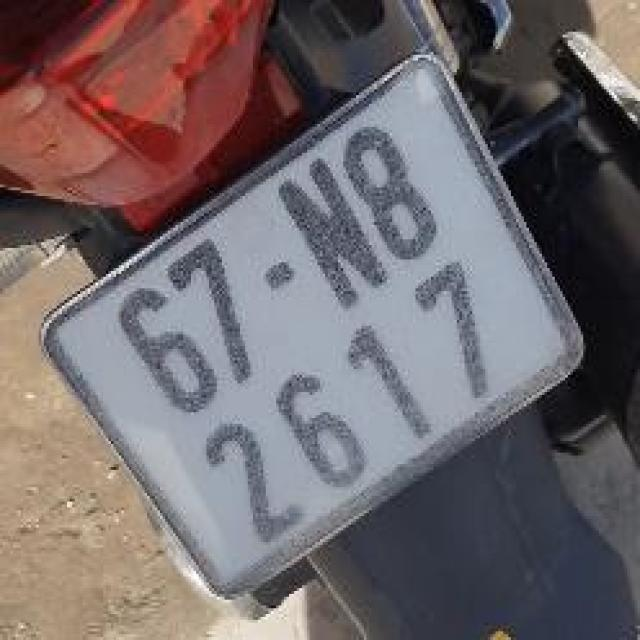1: (336, 311, 450, 450)
2: (186, 402, 320, 557)
6: (104, 273, 235, 441), (266, 357, 381, 522)
7: (156, 216, 292, 403), (403, 238, 535, 427)
8: (334, 93, 462, 278)
N: (256, 138, 398, 331)
